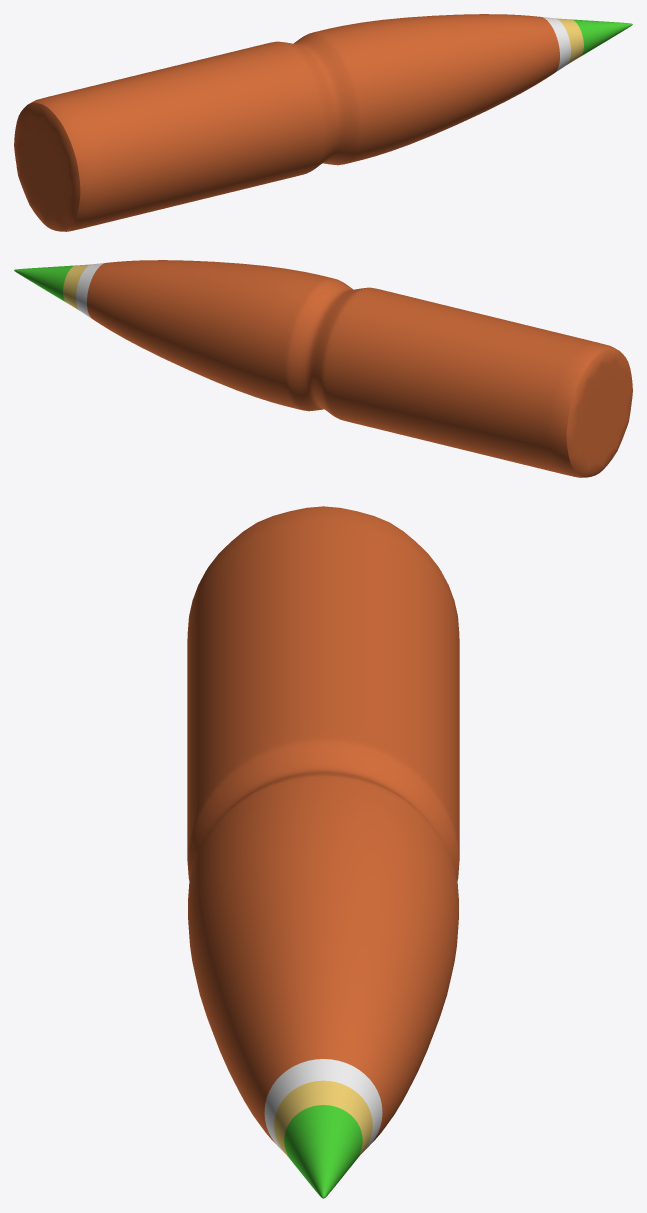
File: Bala.fbx
3 views of the same model, one above another, from view 1: azimuth 30°, elevation 25°; view 2: azimuth 150°, elevation 25°; view 3: azimuth 270°, elevation 25° (orthographic). The views are drawn at different scales.
Visible parts, largest first — view 1: Cylinder.011; view 2: Cylinder.011; view 3: Cylinder.011.
Boxes of the visible parts, x1=… form: Cylinder.011: x1=14, y1=14, x2=632, y2=231; Cylinder.011: x1=14, y1=260, x2=632, y2=477; Cylinder.011: x1=187, y1=506, x2=459, y2=1198.
Bounding box in the file's own units: 52.9 × 10.6 × 10.6.
